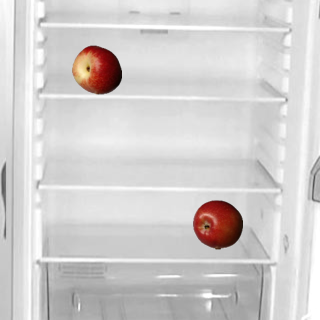Apple Braeburn: (192, 199, 242, 249)
Nectarine: (71, 44, 121, 94)
